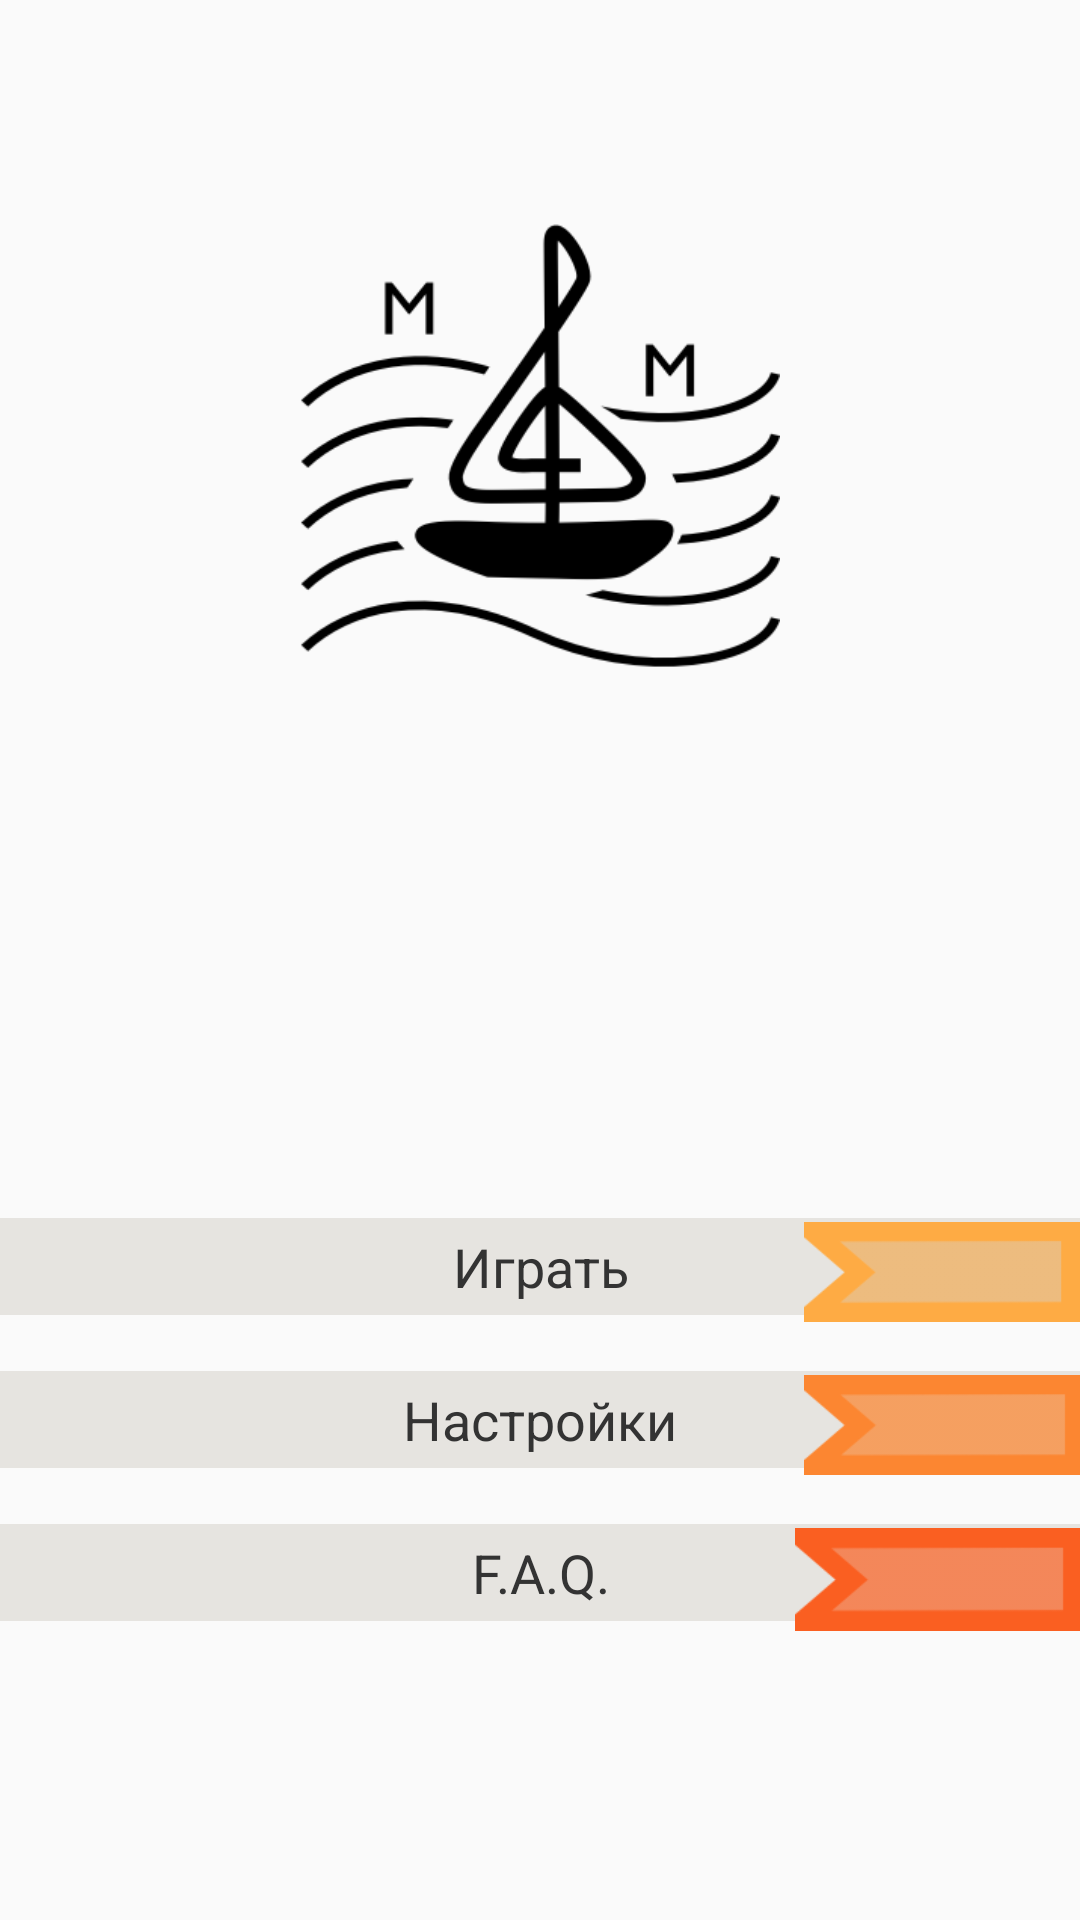

Locate icon controls on the screen. Image size 1080*1920, boxes as (x1, y1, x2, y2).
diz flag: (804, 1218, 1080, 1322), (804, 1371, 1080, 1475), (795, 1524, 1080, 1631)
